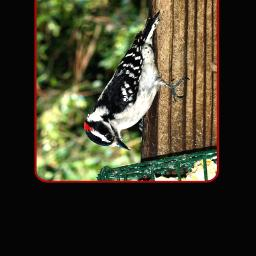Woodpecker: (83, 13, 192, 151)
